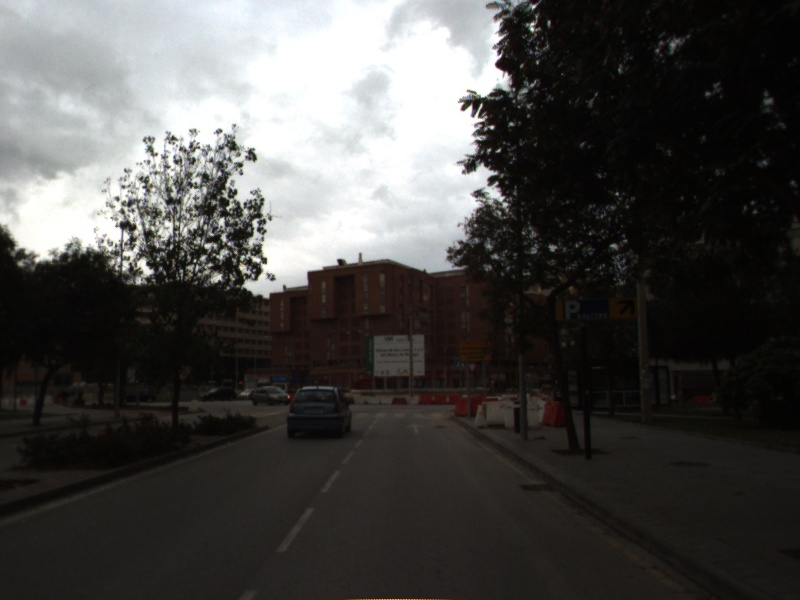STRAIGHT: (403, 421, 429, 437)
